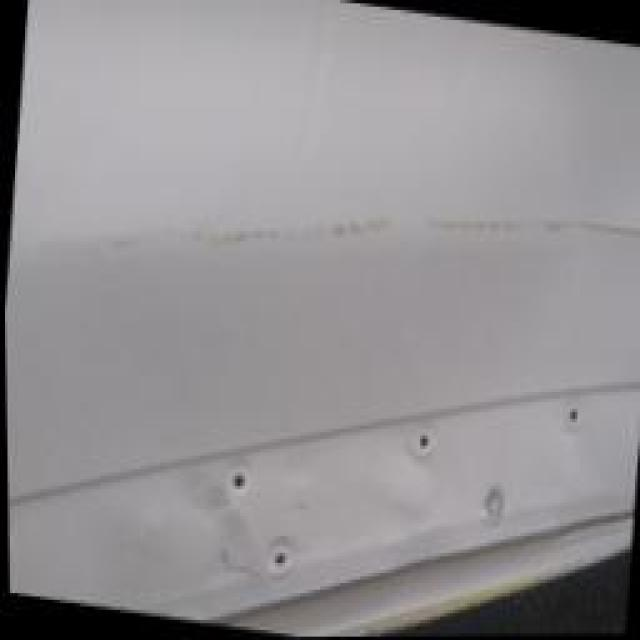Door: (15, 60, 639, 464)
